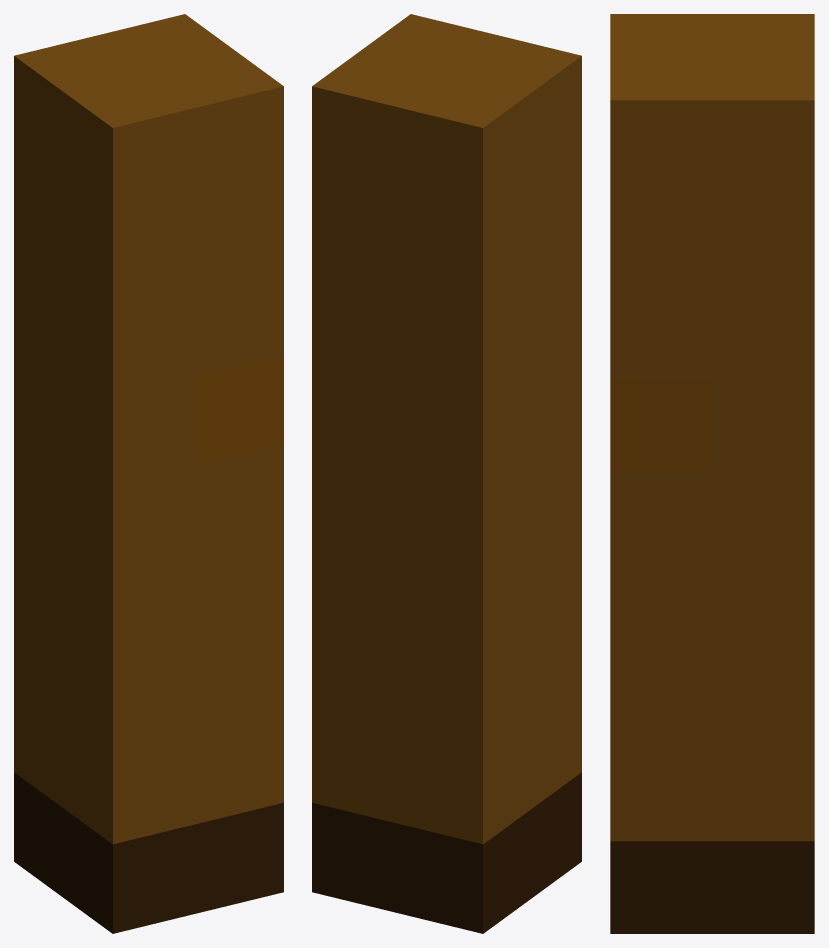
File: Horse1Leg.obj
3 views of the same model, side by side, from view 1: azimuth 30°, elevation 25°; view 2: azimuth 150°, elevation 25°; view 3: azimuth 270°, elevation 25° (orthographic). The views are drawn at different scales.
Size of the model in its own units: 2 by 9 by 2.
Materials: 1 (1 with a texture image).
